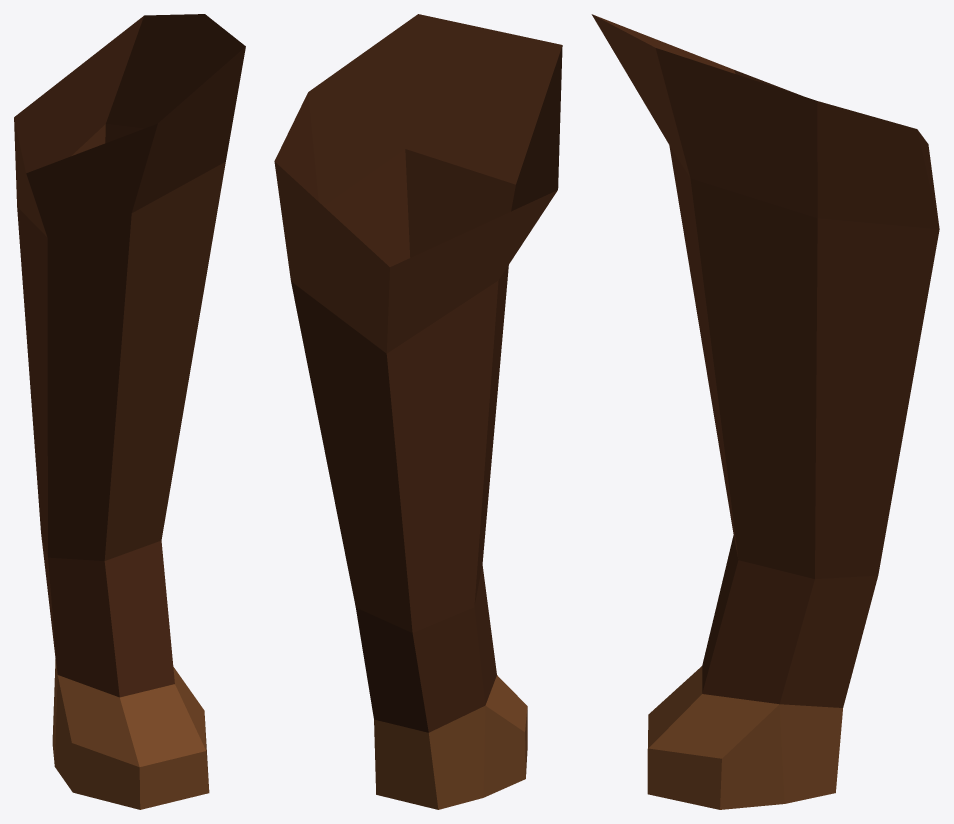
File: zampa_sx_av_dog.obj
3 renders of one model, left to right at view 1: azimuth 30°, elevation 25°; view 2: azimuth 150°, elevation 25°; view 3: azimuth 270°, elevation 25°, orthographic. The views are drawn at different scales.
Visible parts, largest first — view 1: zampa_sx_av; view 2: zampa_sx_av; view 3: zampa_sx_av.
Boxes of the visible parts, x1,y1,x2,y2 form: zampa_sx_av: (14, 14, 245, 809); zampa_sx_av: (274, 14, 562, 809); zampa_sx_av: (591, 14, 939, 809).
Size of the model in its own units: 0.0993 by 0.3185 by 0.1311.
